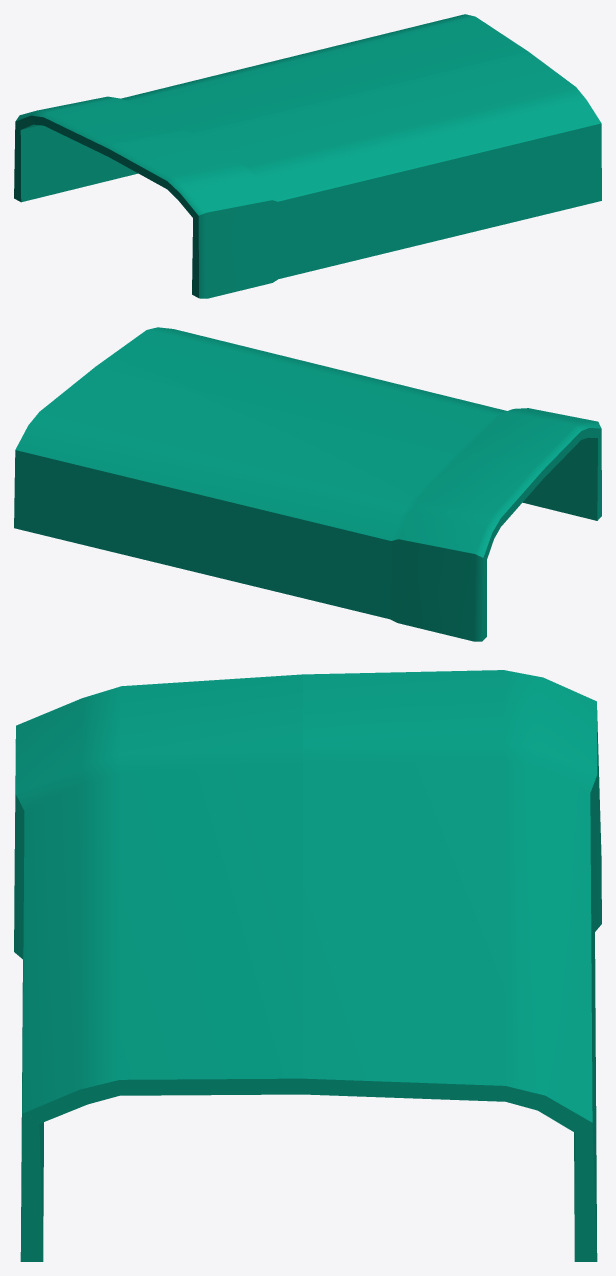
The model's file is Bed_Blanket.fbx.
3 views of the same model, one above another, from view 1: azimuth 30°, elevation 25°; view 2: azimuth 150°, elevation 25°; view 3: azimuth 270°, elevation 25° (orthographic). The views are drawn at different scales.
Parts seen in each view (by area): view 1: Bed_Blanket; view 2: Bed_Blanket; view 3: Bed_Blanket.
Boxes of the visible parts, x1,y1,x2,y2 form: Bed_Blanket: [14, 14, 601, 298]; Bed_Blanket: [14, 327, 601, 641]; Bed_Blanket: [14, 670, 601, 1261].
Bounding box in the file's own units: 1412 × 321 × 854.
